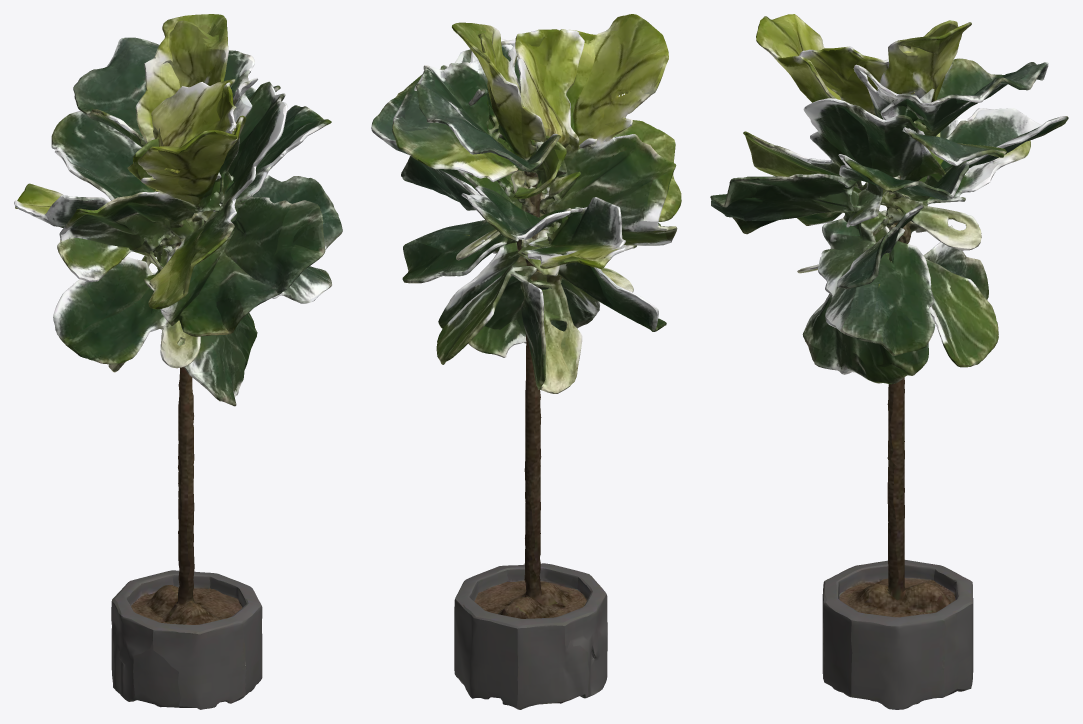
Rendered from room__n27-4.glb.
3 views of the same model, side by side, from view 1: azimuth 30°, elevation 25°; view 2: azimuth 150°, elevation 25°; view 3: azimuth 270°, elevation 25° (orthographic). The views are drawn at different scales.
Bounding box in the file's own units: 0.4478 × 1 × 0.4874.
Materials: 1 (1 with a texture image).
